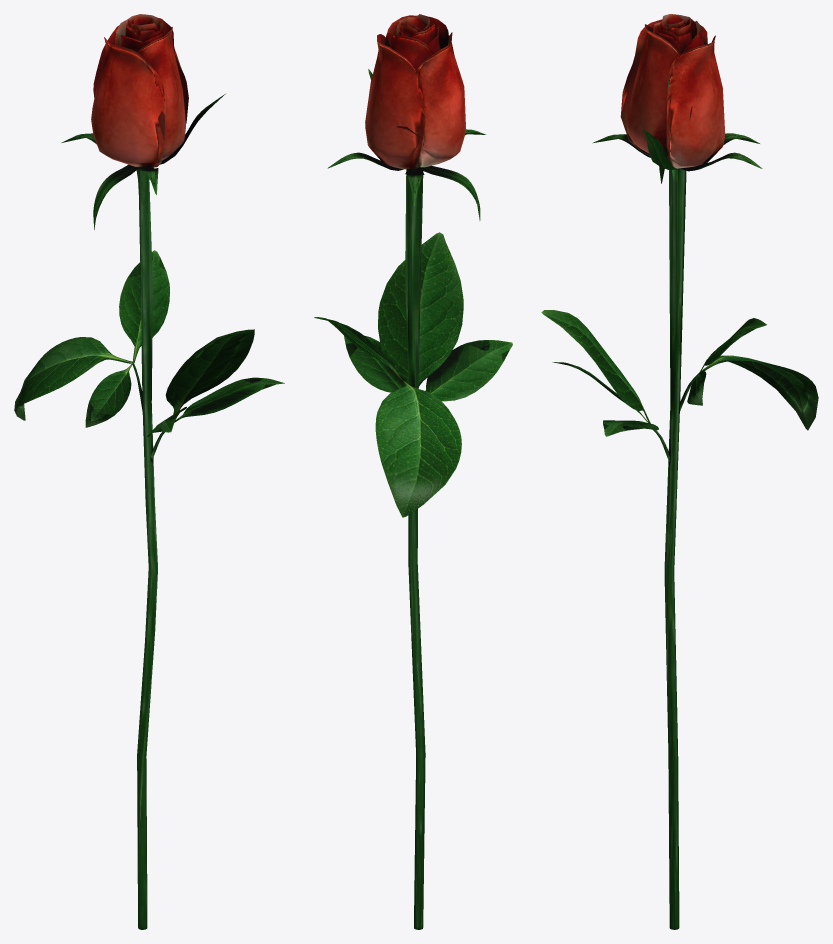
The model's file is rose.fbx.
3 renders of one model, left to right at view 1: azimuth 30°, elevation 25°; view 2: azimuth 150°, elevation 25°; view 3: azimuth 270°, elevation 25°, orthographic.
Visible parts, largest first — view 1: rose; view 2: rose; view 3: rose.
Part boxes in pixels (bbox=[...]): rose: bbox=[14, 14, 284, 929]; rose: bbox=[314, 14, 512, 929]; rose: bbox=[541, 14, 818, 929].
Bounding box in the file's own units: 13.08 × 59.98 × 16.55.
1 material, 1 textured.
